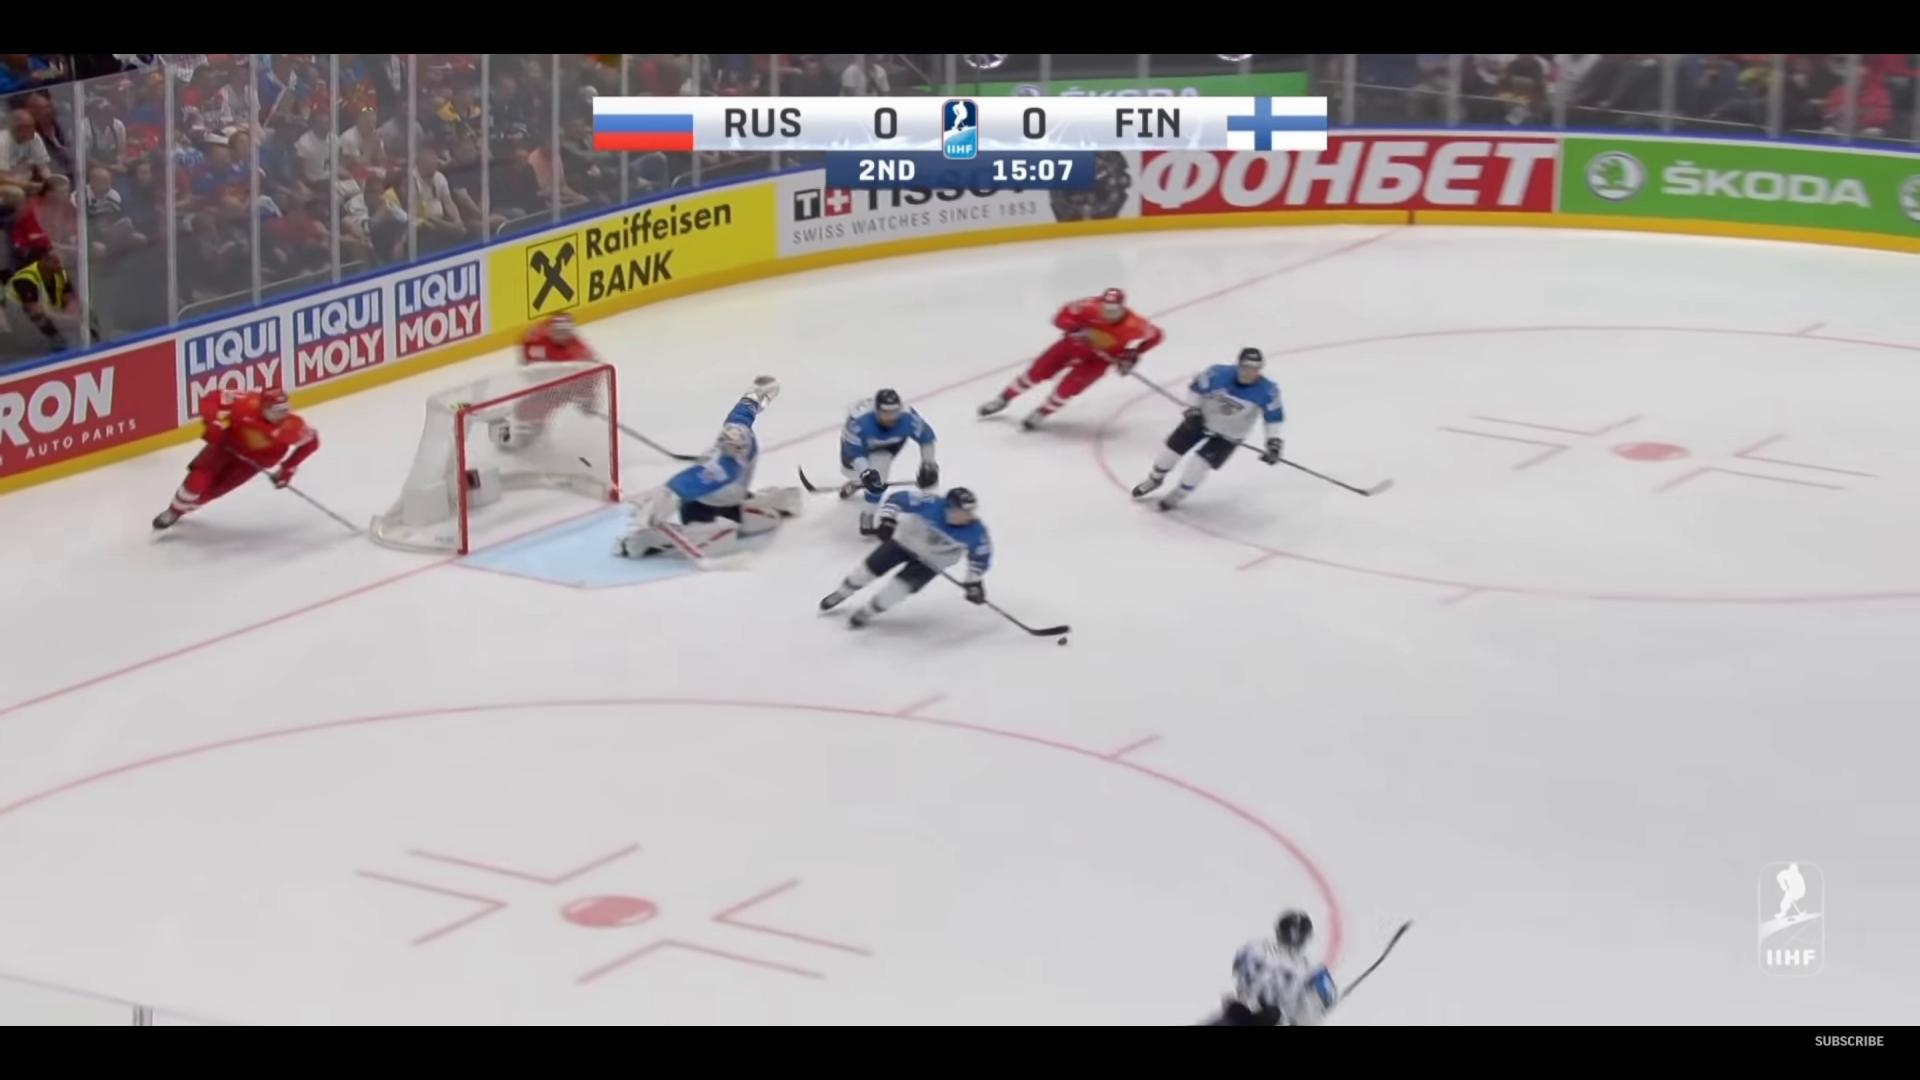puck: (1058, 637, 1067, 645)
